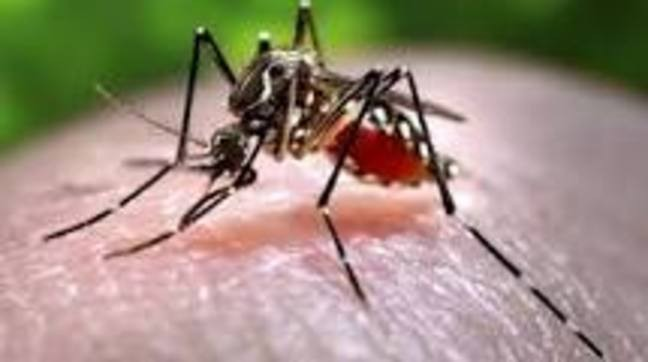mosquito: (42, 2, 611, 358)
